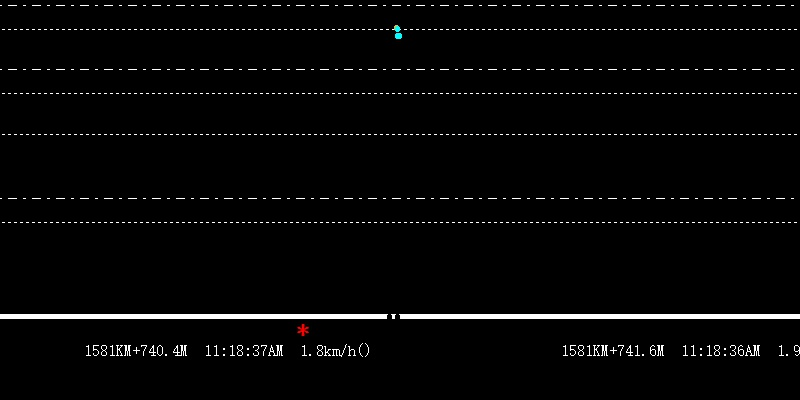face_s: (393, 20, 401, 42)
star: (294, 320, 312, 339)
